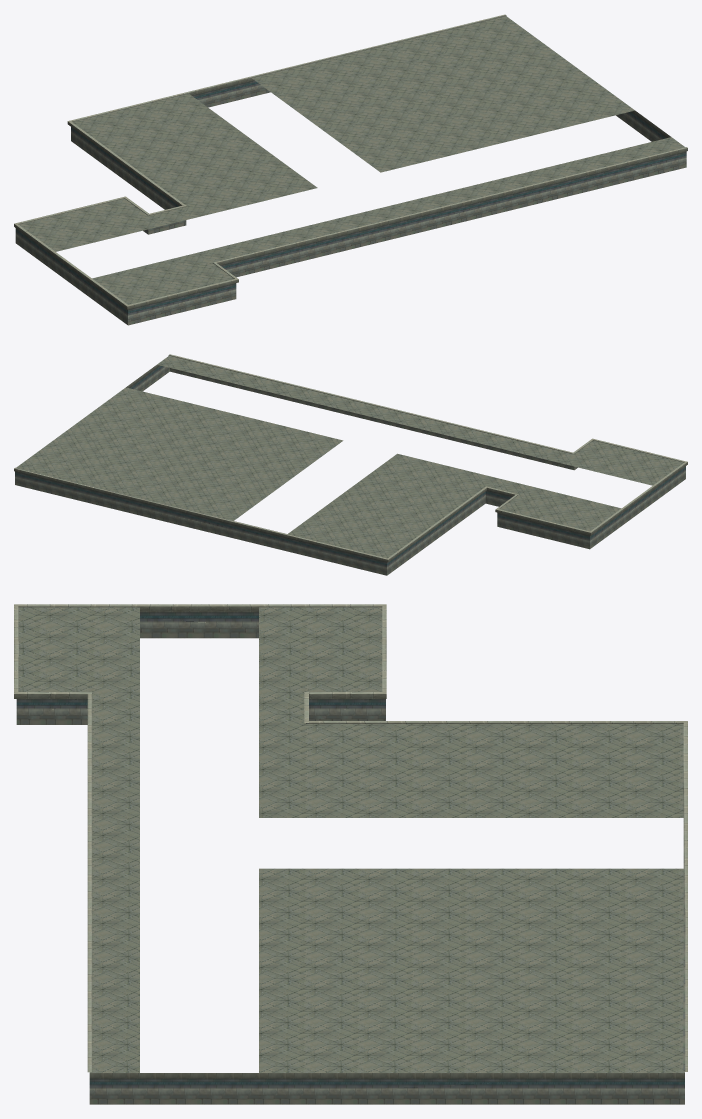
Rendered from szc_building_dimian_quyu1_01.FBX.
3 renders of one model, top to bottom at view 1: azimuth 30°, elevation 25°; view 2: azimuth 150°, elevation 25°; view 3: azimuth 270°, elevation 25°, orthographic. The views are drawn at different scales.
Visible parts, largest first — view 1: szc_building_dimian_quyu1; view 2: szc_building_dimian_quyu1; view 3: szc_building_dimian_quyu1.
Boxes of the visible parts, x1,y1,x2,y2 form: szc_building_dimian_quyu1: [14, 14, 687, 325]; szc_building_dimian_quyu1: [14, 354, 687, 575]; szc_building_dimian_quyu1: [14, 604, 687, 1104].
Bounding box in the file's own units: 3844 × 125 × 2340.
